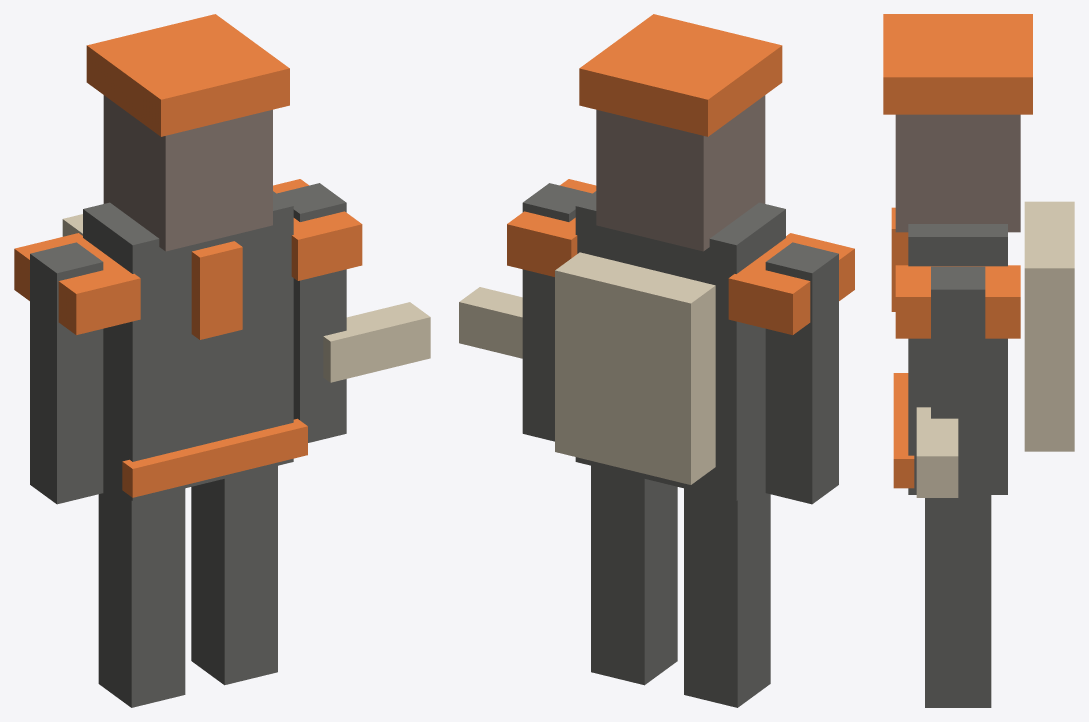
Rendered from 17_noor_starfall_ranger_of_core.glb.
3 views of the same model, side by side, from view 1: azimuth 30°, elevation 25°; view 2: azimuth 150°, elevation 25°; view 3: azimuth 270°, elevation 25° (orthographic).
Visible parts, largest first — view 1: Noor Starfall, Ranger of Core; view 2: Noor Starfall, Ranger of Core; view 3: Noor Starfall, Ranger of Core.
Part boxes in pixels (x1=…): Noor Starfall, Ranger of Core: x1=14, y1=14, x2=430, y2=707; Noor Starfall, Ranger of Core: x1=459, y1=14, x2=854, y2=707; Noor Starfall, Ranger of Core: x1=883, y1=14, x2=1074, y2=707.
Size of the model in its own units: 0.9822 by 1.59 by 0.4408.
